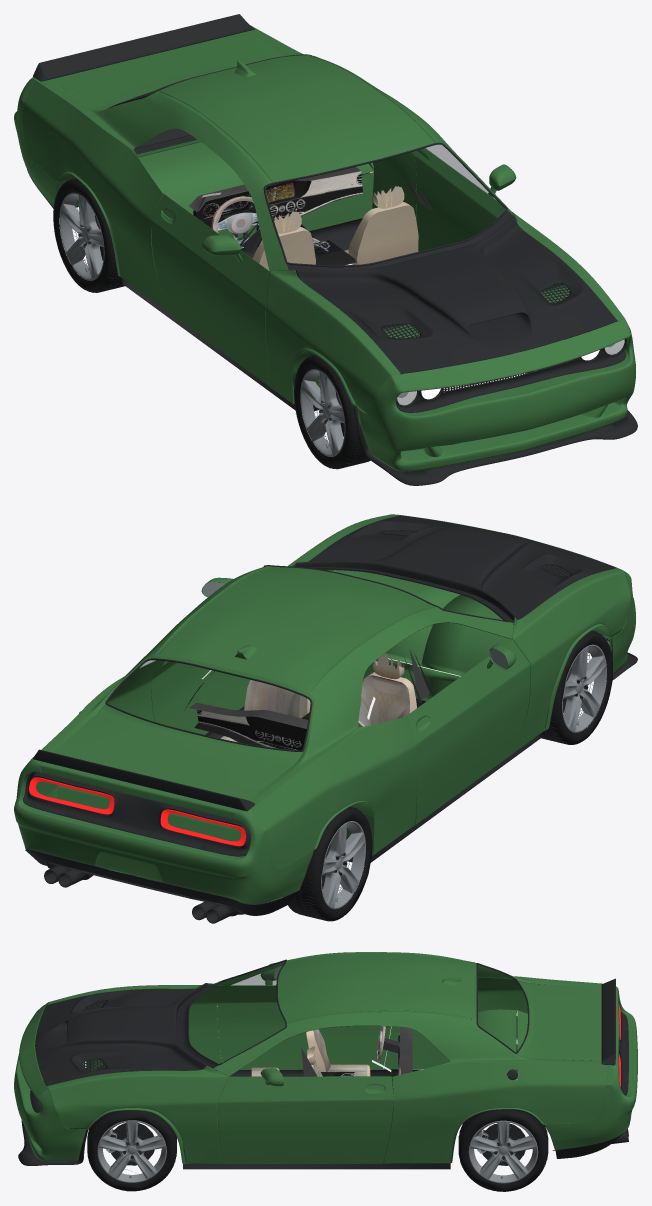
Rendered from challenger.glb.
The picture shows the model from 3 angles, top to bottom: view 1: azimuth 30°, elevation 25°; view 2: azimuth 150°, elevation 25°; view 3: azimuth 270°, elevation 25°; orthographic projection. The views are drawn at different scales.
Visible parts, largest first — view 1: Plane.003_Plane.035, Plane_Plane.032, Plane.005_Plane.037, mercedes_interior_template, Plane.001_Plane.033, door_fr_Plane.002_Plane.034, Plane.004_Plane.036, door_fl_Plane.002_Plane.034, Cube.001_Cube.003, Plane.013_Plane.039, Volkswagen_Touareg_Hybrid_Wheel_OBJ.013, Volkswagen_Touareg_Hybrid_Wheel_OBJ.009_Volkswagen_Touareg_H (+12 smaller); view 2: Plane.003_Plane.035, Plane.001_Plane.033, Plane.006_Plane.038, Plane_Plane.032, Plane.004_Plane.036, door_fr_Plane.002_Plane.034, mercedes_interior_template, Plane.017_Plane.041, door_fl_Plane.002_Plane.034, Volkswagen_Touareg_Hybrid_Wheel_OBJ.016, Plane.014_Plane.040, Volkswagen_Touareg_Hybrid_Wheel_OBJ.009_Volkswagen_Touareg_H (+11 smaller); view 3: Plane.003_Plane.035, door_fl_Plane.002_Plane.034, Plane.001_Plane.033, Plane_Plane.032, door_fr_Plane.002_Plane.034, Plane.004_Plane.036, Plane.005_Plane.037, Plane.006_Plane.038, mercedes_interior_template, Volkswagen_Touareg_Hybrid_Wheel_OBJ.008, Volkswagen_Touareg_Hybrid_Wheel_OBJ.006_Volkswagen_Touareg_H, Volkswagen_Touareg_Hybrid_Wheel_OBJ.003_Volkswagen_Touareg_H (+14 smaller).
Boxes of the visible parts, bbox=[...] form: Plane.003_Plane.035: bbox=[22, 26, 513, 308]; Plane_Plane.032: bbox=[295, 216, 617, 374]; Plane.005_Plane.037: bbox=[357, 318, 635, 471]; mercedes_interior_template: bbox=[189, 163, 432, 270]; Plane.001_Plane.033: bbox=[265, 212, 624, 413]; door_fr_Plane.002_Plane.034: bbox=[155, 196, 268, 383]; Plane.004_Plane.036: bbox=[50, 32, 285, 110]; door_fl_Plane.002_Plane.034: bbox=[416, 148, 511, 251]; Cube.001_Cube.003: bbox=[33, 14, 254, 81]; Plane.013_Plane.039: bbox=[353, 406, 637, 485]; Volkswagen_Touareg_Hybrid_Wheel_OBJ.013: bbox=[59, 192, 104, 280]; Volkswagen_Touareg_Hybrid_Wheel_OBJ.009_Volkswagen_Touareg_H: bbox=[300, 369, 345, 456]; Plane.003_Plane.035: bbox=[36, 566, 513, 869]; Plane.001_Plane.033: bbox=[288, 514, 631, 748]; Plane.006_Plane.038: bbox=[14, 757, 313, 904]; Plane_Plane.032: bbox=[295, 515, 616, 624]; Plane.004_Plane.036: bbox=[40, 704, 302, 819]; door_fr_Plane.002_Plane.034: bbox=[411, 639, 523, 824]; mercedes_interior_template: bbox=[185, 649, 432, 750]; Plane.017_Plane.041: bbox=[23, 772, 250, 856]; door_fl_Plane.002_Plane.034: bbox=[156, 661, 249, 734]; Volkswagen_Touareg_Hybrid_Wheel_OBJ.016: bbox=[288, 806, 372, 921]; Plane.014_Plane.040: bbox=[25, 849, 299, 915]; Volkswagen_Touareg_Hybrid_Wheel_OBJ.009_Volkswagen_Touareg_H: bbox=[562, 644, 606, 732]; Plane.003_Plane.035: bbox=[213, 952, 608, 1163]; door_fl_Plane.002_Plane.034: bbox=[225, 1076, 386, 1163]; Plane.001_Plane.033: bbox=[46, 983, 228, 1163]; Plane_Plane.032: bbox=[35, 983, 207, 1086]; door_fr_Plane.002_Plane.034: bbox=[226, 985, 386, 1069]; Plane.004_Plane.036: bbox=[516, 981, 619, 1063]; Plane.005_Plane.037: bbox=[14, 1002, 85, 1161]; Plane.006_Plane.038: bbox=[544, 986, 637, 1149]; mercedes_interior_template: bbox=[251, 1026, 412, 1096]; Volkswagen_Touareg_Hybrid_Wheel_OBJ.008: bbox=[458, 1109, 548, 1191]; Volkswagen_Touareg_Hybrid_Wheel_OBJ.006_Volkswagen_Touareg_H: bbox=[87, 1110, 176, 1191]; Volkswagen_Touareg_Hybrid_Wheel_OBJ.003_Volkswagen_Touareg_H: bbox=[468, 1120, 538, 1183].
Bounding box in the file's own units: 2.2 × 1.48 × 5.03.
Materials: 11 (1 with a texture image).
